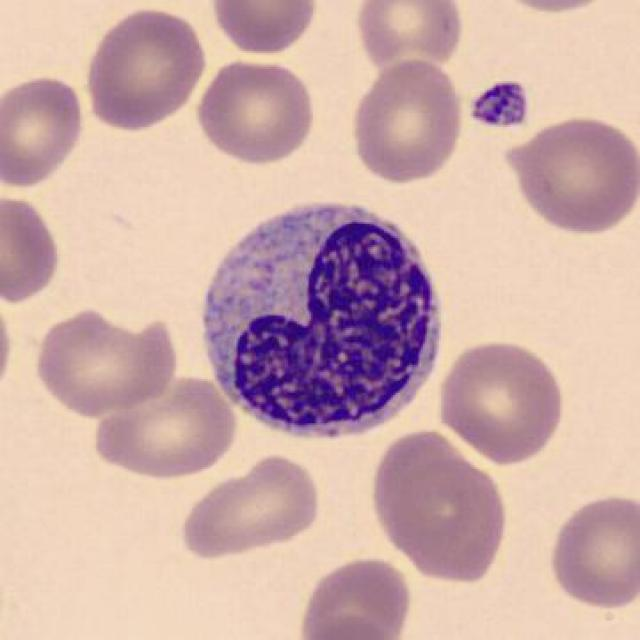Platelets: (464, 76, 533, 130)
RBC: (366, 430, 514, 586), (28, 303, 185, 418), (498, 111, 638, 238), (434, 335, 567, 467), (87, 370, 242, 483), (78, 4, 210, 134), (174, 450, 326, 560), (345, 56, 467, 187), (194, 54, 318, 166), (540, 490, 638, 615), (293, 553, 412, 640), (0, 72, 85, 190), (350, 0, 464, 74), (0, 190, 64, 307), (206, 0, 320, 56), (295, 613, 405, 640), (486, 0, 620, 18)
